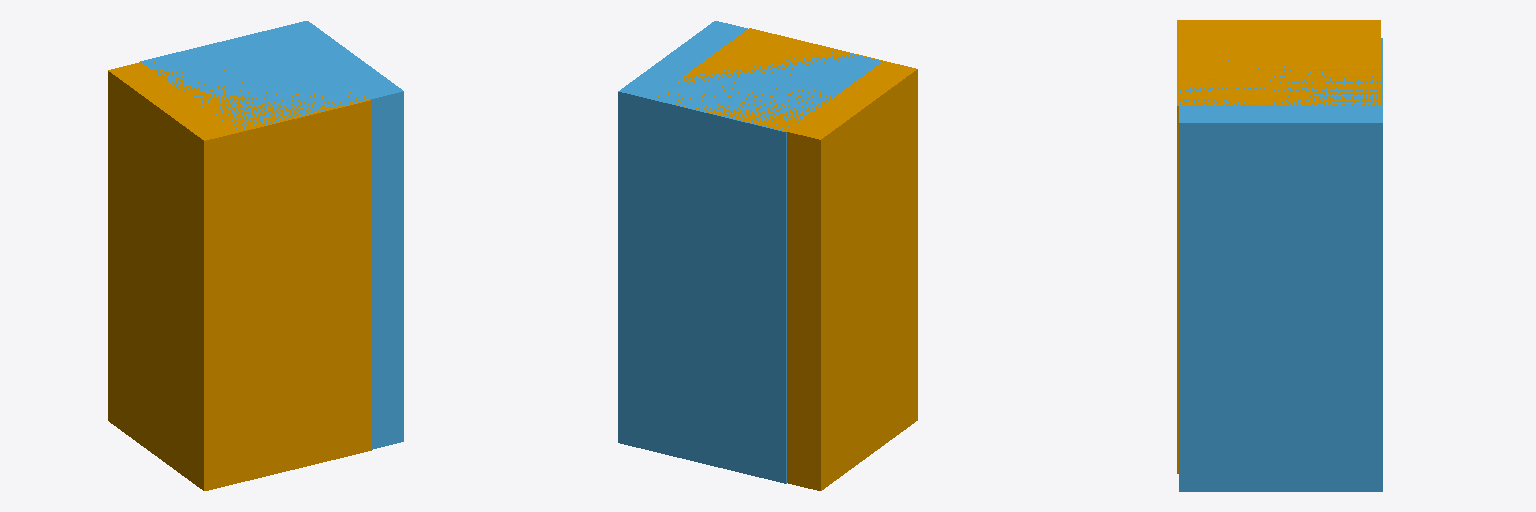
The robot description file, URDF, robot "panda":
<?xml version='1.0' encoding='utf-8'?>
<robot name="panda">

 <link name="my_box">
    <inertial>
      <origin xyz="2 0 0" />
      <mass value="1.0" />
      <inertia  ixx="1.0" ixy="0.0"  ixz="0.0"  iyy="100.0"  iyz="0.0"  izz="1.0" />
    </inertial>
    <visual>
      <origin xyz="2 0 1"/>
      <geometry>
        <box size="1 1 2" />
      </geometry>
    </visual>
    <collision>
      <origin xyz="2 0 1"/>
      <geometry>
        <box size="1 1 2" />
      </geometry>
    </collision>
  </link>
  <gazebo reference="my_box">
    <material>Gazebo/Blue</material>
  </gazebo>

  <link name="my_box2">
    <inertial>
      <origin xyz="2 0 0" />
      <mass value="1.0" />
      <inertia  ixx="1.0" ixy="0.0"  ixz="0.0"  iyy="100.0"  iyz="0.0"  izz="1.0" />
    </inertial>
    <visual>
      <origin xyz="2 0 1"/>
      <geometry>
        <box size="1 1 2" />
      </geometry>
    </visual>
    <collision>
      <origin xyz="2 0 1"/>
      <geometry>
        <box size="1 1 2" />
      </geometry>
    </collision>
  </link>

  <joint name="joint_01" type="revolute">
    <!-- <provideFeedback>true</provideFeedback> -->
    <axis xyz="0 0 2"/>
    <limit effort="1000.0" lower="0.0" upper="0.548" velocity="0.5"/>
    <origin rpy="0 0 0" xyz="0.2 0.01 0"/>
    <parent link="my_box"/>
    <child link="my_box2"/>
    <!-- <sensor name="force_torque" type="force_torque">
      <update_rate>30</update_rate>
    </sensor> -->
    <!-- <sensor name="force_torque" type="force_torque">
      <always_on>true</always_on>
      <update_rate>100</update_rate>
      <plugin filename="libgazebo_ros_ft_sensor.so" name="ft_sensor">
        <topicName>/ft_sensor_topic</topicName>
        <jointName>joint_01</jointName>
      </plugin>
    </sensor>/ -->
  </joint>

  <!-- Enable the Joint Feedback -->
  <gazebo reference="joint_01">
    <provideFeedback>true</provideFeedback>
  </gazebo>

  <gazebo>
    <plugin filename="libgazebo_ros_ft_sensor.so" name="ft_sensor">
      <topicName>/ft_sensor_topic</topicName>
      <jointName>joint_01</jointName>
      <update_rate>50.0</update_rate>
    </plugin>
  </gazebo>
  
  <gazebo>
    <plugin name="differential_drive_controller" filename="libdiffdrive_plugin.so">
    </plugin>
  </gazebo>

</robot>

--- What the picture shows (computed from the rendered views, not written in the file) ---
Views: 3 orthographic renders of the robot side by side, from view 1: azimuth 30°, elevation 25°; view 2: azimuth 150°, elevation 25°; view 3: azimuth 270°, elevation 25°.
Robot: panda — 2 links, 1 joints (1 revolute); root link my_box; default pose: every joint at zero.
Visible links, largest first — view 1: my_box, my_box2; view 2: my_box2, my_box; view 3: my_box2, my_box.
Link boxes in pixels (x1=…): my_box: x1=108, y1=62, x2=371, y2=490; my_box2: x1=140, y1=21, x2=403, y2=449; my_box2: x1=618, y1=21, x2=882, y2=483; my_box: x1=658, y1=28, x2=917, y2=490; my_box2: x1=1179, y1=38, x2=1382, y2=491; my_box: x1=1177, y1=20, x2=1380, y2=473.
Size in the robot's own frame: 1.2 by 1.01 by 2 metres.
Geometry: primitives only (box / cylinder / sphere), no mesh files.
